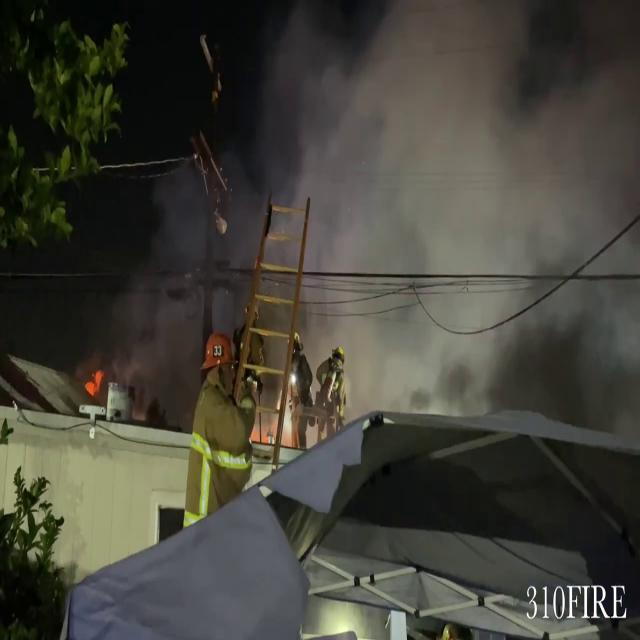Smoke: (106, 0, 639, 420)
